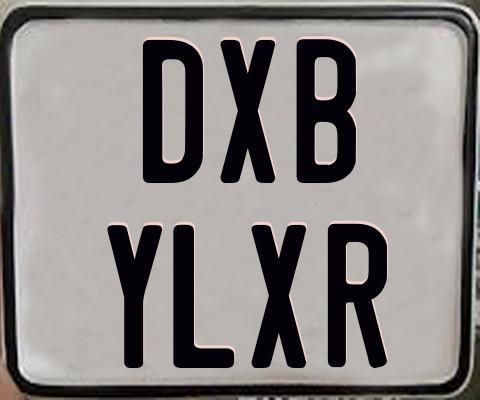B: (293, 36, 353, 185)
D: (140, 40, 201, 189)
L: (173, 224, 234, 370)
R: (328, 222, 389, 371)
X: (218, 40, 274, 187), (248, 225, 305, 369)
Y: (106, 225, 161, 373)
